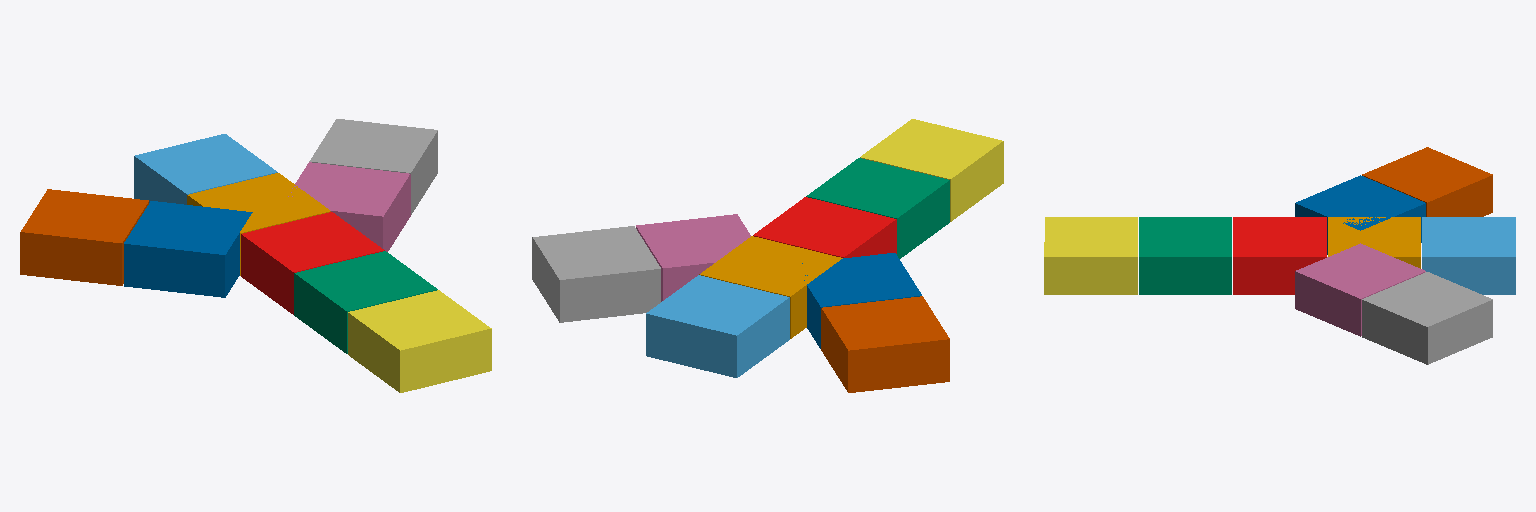
The robot description file, URDF, robot "rob":
<?xml version='1.0' encoding='UTF-8'?>
<robot name="rob">
  <link name="set1_arm1">
    <inertial>
      <origin xyz="0.0 0.34 0.0" rpy="0.0 0.0 0.0"/>
      <mass value="1.0"/>
      <inertia ixx="0.0" ixy="0.0" ixz="0.0" iyy="0.0" iyz="0.0" izz="0.0"/>
    </inertial>
    <visual>
      <geometry>
        <box size="0.67 0.67 0.3 "/>
      </geometry>
      <origin xyz="0.0 0.34 0.0" rpy="0.0 0.0 0.0"/>
    </visual>
    <collision>
      <geometry>
        <box size="0.67 0.67 0.3 "/>
      </geometry>
      <origin xyz="0.0 0.34 0.0" rpy="0.0 0.0 0.0"/>
    </collision>
  </link>
  <link name="set1_arm2">
    <inertial>
      <origin xyz="0.0 0.34 0.0" rpy="0.0 0.0 0.0"/>
      <mass value="1.0"/>
      <inertia ixx="0.0" ixy="0.0" ixz="0.0" iyy="0.0" iyz="0.0" izz="0.0"/>
    </inertial>
    <visual>
      <geometry>
        <box size="0.67 0.67 0.3 "/>
      </geometry>
      <origin xyz="0.0 0.34 0.0" rpy="0.0 0.0 0.0"/>
    </visual>
    <collision>
      <geometry>
        <box size="0.67 0.67 0.3 "/>
      </geometry>
      <origin xyz="0.0 0.34 0.0" rpy="0.0 0.0 0.0"/>
    </collision>
  </link>
  <link name="set2_arm1">
    <inertial>
      <origin xyz="0.0 0.34 0.0" rpy="0.0 0.0 0.0"/>
      <mass value="1.0"/>
      <inertia ixx="0.0" ixy="0.0" ixz="0.0" iyy="0.0" iyz="0.0" izz="0.0"/>
    </inertial>
    <visual>
      <geometry>
        <box size="0.67 0.67 0.3 "/>
      </geometry>
      <origin xyz="0.0 0.34 0.0" rpy="0.0 0.0 0.0"/>
    </visual>
    <collision>
      <geometry>
        <box size="0.67 0.67 0.3 "/>
      </geometry>
      <origin xyz="0.0 0.34 0.0" rpy="0.0 0.0 0.0"/>
    </collision>
  </link>
  <link name="set2_arm2">
    <inertial>
      <origin xyz="0.0 0.34 0.0" rpy="0.0 0.0 0.0"/>
      <mass value="1.0"/>
      <inertia ixx="0.0" ixy="0.0" ixz="0.0" iyy="0.0" iyz="0.0" izz="0.0"/>
    </inertial>
    <visual>
      <geometry>
        <box size="0.67 0.67 0.3 "/>
      </geometry>
      <origin xyz="0.0 0.34 0.0" rpy="0.0 0.0 0.0"/>
    </visual>
    <collision>
      <geometry>
        <box size="0.67 0.67 0.3 "/>
      </geometry>
      <origin xyz="0.0 0.34 0.0" rpy="0.0 0.0 0.0"/>
    </collision>
  </link>
  <link name="set5_arm1">
    <inertial>
      <origin xyz="0.0 0.34 0.0" rpy="0.0 0.0 0.0"/>
      <mass value="1.0"/>
      <inertia ixx="0.0" ixy="0.0" ixz="0.0" iyy="0.0" iyz="0.0" izz="0.0"/>
    </inertial>
    <visual>
      <geometry>
        <box size="0.67 0.67 0.3 "/>
      </geometry>
      <origin xyz="0.0 0.34 0.0" rpy="0.0 0.0 0.0"/>
    </visual>
    <collision>
      <geometry>
        <box size="0.67 0.67 0.3 "/>
      </geometry>
      <origin xyz="0.0 0.34 0.0" rpy="0.0 0.0 0.0"/>
    </collision>
  </link>
  <link name="set5_arm2">
    <inertial>
      <origin xyz="0.0 0.34 0.0" rpy="0.0 0.0 0.0"/>
      <mass value="1.0"/>
      <inertia ixx="0.0" ixy="0.0" ixz="0.0" iyy="0.0" iyz="0.0" izz="0.0"/>
    </inertial>
    <visual>
      <geometry>
        <box size="0.67 0.67 0.3 "/>
      </geometry>
      <origin xyz="0.0 0.34 0.0" rpy="0.0 0.0 0.0"/>
    </visual>
    <collision>
      <geometry>
        <box size="0.67 0.67 0.3 "/>
      </geometry>
      <origin xyz="0.0 0.34 0.0" rpy="0.0 0.0 0.0"/>
    </collision>
  </link>
  <link name="set7_arm1">
    <inertial>
      <origin xyz="0.0 0.34 0.0" rpy="0.0 0.0 0.0"/>
      <mass value="1.0"/>
      <inertia ixx="0.0" ixy="0.0" ixz="0.0" iyy="0.0" iyz="0.0" izz="0.0"/>
    </inertial>
    <visual>
      <geometry>
        <box size="0.67 0.67 0.3 "/>
      </geometry>
      <origin xyz="0.0 0.34 0.0" rpy="0.0 0.0 0.0"/>
    </visual>
    <collision>
      <geometry>
        <box size="0.67 0.67 0.3 "/>
      </geometry>
      <origin xyz="0.0 0.34 0.0" rpy="0.0 0.0 0.0"/>
    </collision>
  </link>
  <link name="set7_arm2">
    <inertial>
      <origin xyz="0.0 0.34 0.0" rpy="0.0 0.0 0.0"/>
      <mass value="1.0"/>
      <inertia ixx="0.0" ixy="0.0" ixz="0.0" iyy="0.0" iyz="0.0" izz="0.0"/>
    </inertial>
    <visual>
      <geometry>
        <box size="0.67 0.67 0.3 "/>
      </geometry>
      <origin xyz="0.0 0.34 0.0" rpy="0.0 0.0 0.0"/>
    </visual>
    <collision>
      <geometry>
        <box size="0.67 0.67 0.3 "/>
      </geometry>
      <origin xyz="0.0 0.34 0.0" rpy="0.0 0.0 0.0"/>
    </collision>
  </link>
  <link name="base_link">
    <inertial>
      <origin xyz="0.0 0.0 0.0" rpy="0.0 -0.0 0.0"/>
      <mass value="1.0"/>
      <inertia ixx="1.0" ixy="0.0" ixz="0.0" iyy="1.0" iyz="0.0" izz="1.0"/>
    </inertial>
    <visual>
      <geometry>
        <box size="0.67 0.67 0.3 "/>
      </geometry>
      <material name="red"/>
      <origin xyz="0.0 0.0 0.0" rpy="0.0 -0.0 0.0"/>
    </visual>
    <collision>
      <geometry>
        <box size="0.67 0.67 0.3 "/>
      </geometry>
      <origin xyz="0.0 0.0 0.0" rpy="0.0 0.0 0.0"/>
    </collision>
  </link>
  <joint name="set1_jointBase" type="fixed">
    <limit effort="1.57" velocity="1.57" lower="-1.57" upper="1.57"/>
    <parent link="base_link"/>
    <child link="set1_arm1"/>
    <axis xyz="1. 0. 0."/>
    <origin xyz="0.0 0.34 0.0" rpy="0.0 0.0 0.0"/>
  </joint>
  <joint name="set1_joint1" type="revolute">
    <limit effort="1.57" velocity="1.57" lower="-1.57" upper="1.57"/>
    <parent link="set1_arm1"/>
    <child link="set1_arm2"/>
    <axis xyz="1. 0. 0."/>
    <origin xyz="0.0 0.68 0.0" rpy="0.0 0.0 0.0"/>
  </joint>
  <joint name="set2_jointBase" type="fixed">
    <limit effort="1.57" velocity="1.57" lower="-1.57" upper="1.57"/>
    <parent link="base_link"/>
    <child link="set2_arm1"/>
    <axis xyz="1. 0. 0."/>
    <origin xyz="0.0 -0.34 0.0" rpy="0.0 0.0 3.141"/>
  </joint>
  <joint name="set2_joint1" type="revolute">
    <limit effort="1.57" velocity="1.57" lower="-1.57" upper="1.57"/>
    <parent link="set2_arm1"/>
    <child link="set2_arm2"/>
    <axis xyz="1. 0. 0."/>
    <origin xyz="0.0 0.68 0.0" rpy="0.0 0.0 0.0"/>
  </joint>
  <joint name="set5_jointBase" type="fixed">
    <limit effort="1.57" velocity="1.57" lower="-1.57" upper="1.57"/>
    <parent link="base_link"/>
    <child link="set5_arm1"/>
    <axis xyz="1. 0. 0."/>
    <origin xyz="-0.34 0.34 0.0" rpy="0.0 0.0 0.785"/>
  </joint>
  <joint name="set5_joint1" type="revolute">
    <limit effort="1.57" velocity="1.57" lower="-1.57" upper="1.57"/>
    <parent link="set5_arm1"/>
    <child link="set5_arm2"/>
    <axis xyz="1. 0. 0."/>
    <origin xyz="0.0 0.68 0.0" rpy="0.0 0.0 0.0"/>
  </joint>
  <joint name="set7_jointBase" type="fixed">
    <limit effort="1.57" velocity="1.57" lower="-1.57" upper="1.57"/>
    <parent link="base_link"/>
    <child link="set7_arm1"/>
    <axis xyz="1. 0. 0."/>
    <origin xyz="0.34 0.34 0.0" rpy="0.0 0.0 -0.785"/>
  </joint>
  <joint name="set7_joint1" type="revolute">
    <limit effort="1.57" velocity="1.57" lower="-1.57" upper="1.57"/>
    <parent link="set7_arm1"/>
    <child link="set7_arm2"/>
    <axis xyz="1. 0. 0."/>
    <origin xyz="0.0 0.68 0.0" rpy="0.0 0.0 0.0"/>
  </joint>
  <material name="red">
    <color rgba="0.969 0.129 0.122 1.   "/>
  </material>
</robot>

--- Render facts (derived) ---
The picture shows the robot from 3 angles, left to right: view 1: azimuth 30°, elevation 25°; view 2: azimuth 150°, elevation 25°; view 3: azimuth 270°, elevation 25°; orthographic projection.
Robot: rob — 9 links, 8 joints (4 revolute, 4 fixed); root link base_link; default pose: all joints at 0.
Links seen in each view (by area): view 1: set2_arm2, set5_arm1, set5_arm2, set2_arm1, base_link, set1_arm2, set7_arm1, set7_arm2, set1_arm1; view 2: set1_arm2, set5_arm2, set7_arm2, set2_arm2, set2_arm1, base_link, set1_arm1, set7_arm1, set5_arm1; view 3: set7_arm2, set2_arm2, set2_arm1, set1_arm2, base_link, set7_arm1, set5_arm2, set5_arm1, set1_arm1.
Boxes of the visible links, <box> form: set2_arm2: <box>348,290,491,392</box>; set5_arm1: <box>124,201,252,297</box>; set5_arm2: <box>20,189,148,285</box>; set2_arm1: <box>294,251,437,353</box>; base_link: <box>241,212,384,314</box>; set1_arm2: <box>134,134,277,204</box>; set7_arm1: <box>288,162,410,251</box>; set7_arm2: <box>309,119,437,214</box>; set1_arm1: <box>187,173,330,275</box>; set1_arm2: <box>646,275,789,377</box>; set5_arm2: <box>821,296,949,392</box>; set7_arm2: <box>532,226,660,322</box>; set2_arm2: <box>860,119,1003,221</box>; set2_arm1: <box>806,158,949,258</box>; base_link: <box>753,197,896,257</box>; set1_arm1: <box>699,236,842,338</box>; set7_arm1: <box>636,214,750,301</box>; set5_arm1: <box>802,253,921,348</box>; set7_arm2: <box>1362,272,1492,364</box>; set2_arm2: <box>1044,217,1137,294</box>; set2_arm1: <box>1139,217,1231,294</box>; set1_arm2: <box>1422,217,1515,294</box>; base_link: <box>1233,217,1326,294</box>; set7_arm1: <box>1295,243,1425,336</box>; set5_arm2: <box>1362,147,1492,216</box>; set5_arm1: <box>1295,175,1425,254</box>; set1_arm1: <box>1328,217,1420,268</box>.
Bounding box of the posed robot: 3.07 × 3.39 × 0.3 m (x, y, z).
Geometry: primitives only (box / cylinder / sphere), no mesh files.